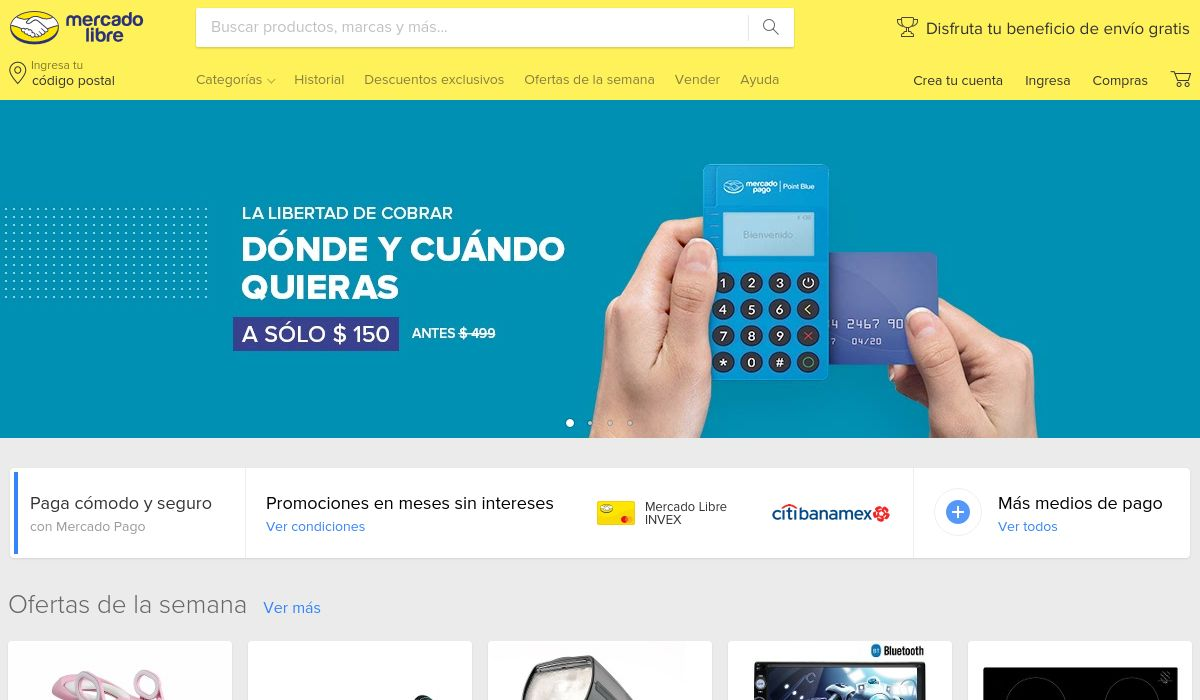menu: (1, 1, 1200, 98)
menu-button: (886, 9, 1193, 46), (360, 70, 507, 93), (521, 70, 661, 93), (911, 71, 1009, 94), (195, 70, 279, 93), (1090, 71, 1153, 94), (292, 70, 344, 93), (1023, 71, 1074, 94), (672, 70, 722, 93), (735, 70, 785, 93), (1167, 71, 1196, 94)
menu-logo: (8, 5, 150, 55)
menu-search: (195, 8, 794, 47)
